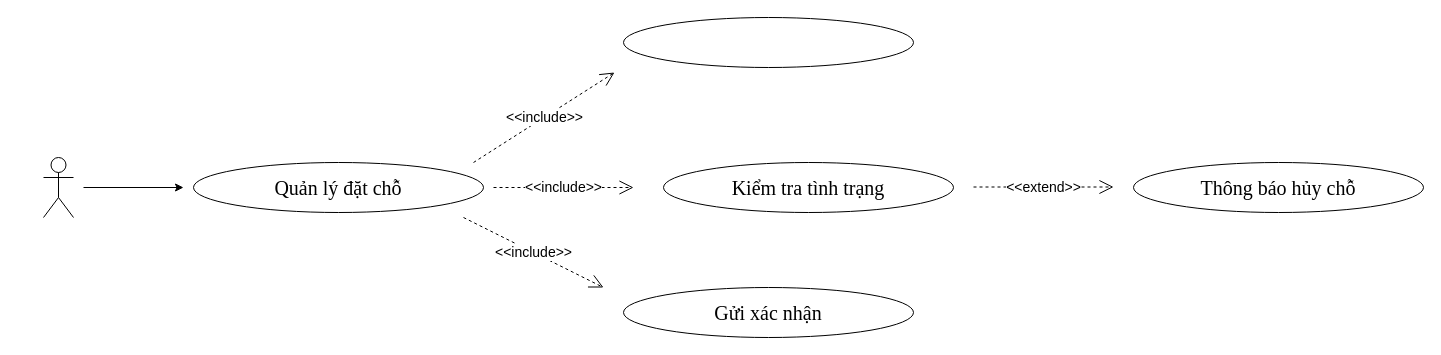
This 1441x355 diagram has some shape labels left out. The box of each missing label's shape, as (x1, y1, x2, y2) in pixels:
Nhân viên: (42, 156, 74, 218)
Xác thực người dùng: (622, 16, 914, 68)
